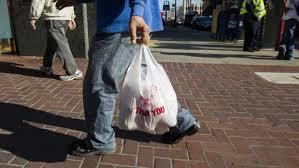Plastic bag: (97, 41, 195, 136)
